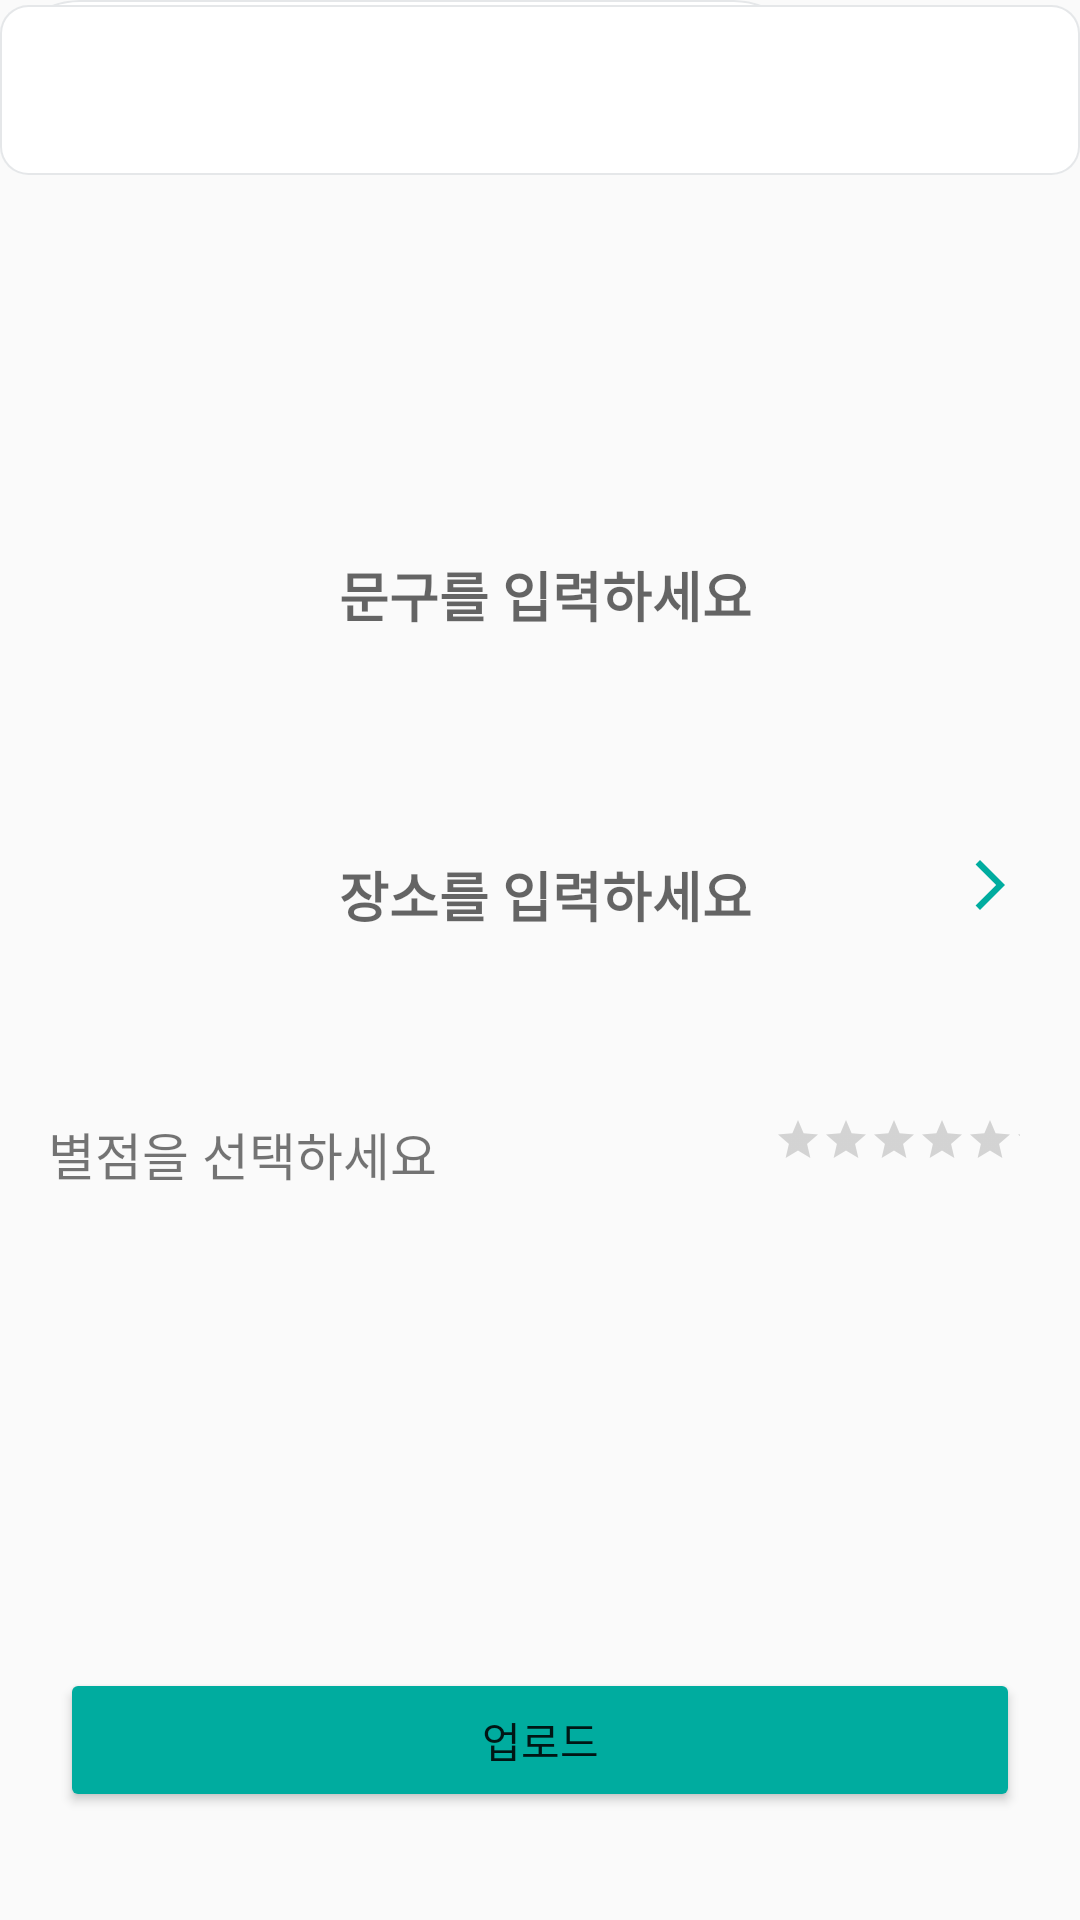

Point at icon controls on the screen. Image size 1080px x 1920px, points as point (x, y).
arrow forward: point (990, 885)
